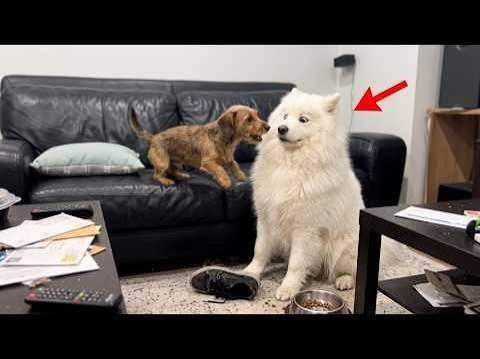adult_dog: (237, 85, 365, 301), (128, 103, 270, 190)
